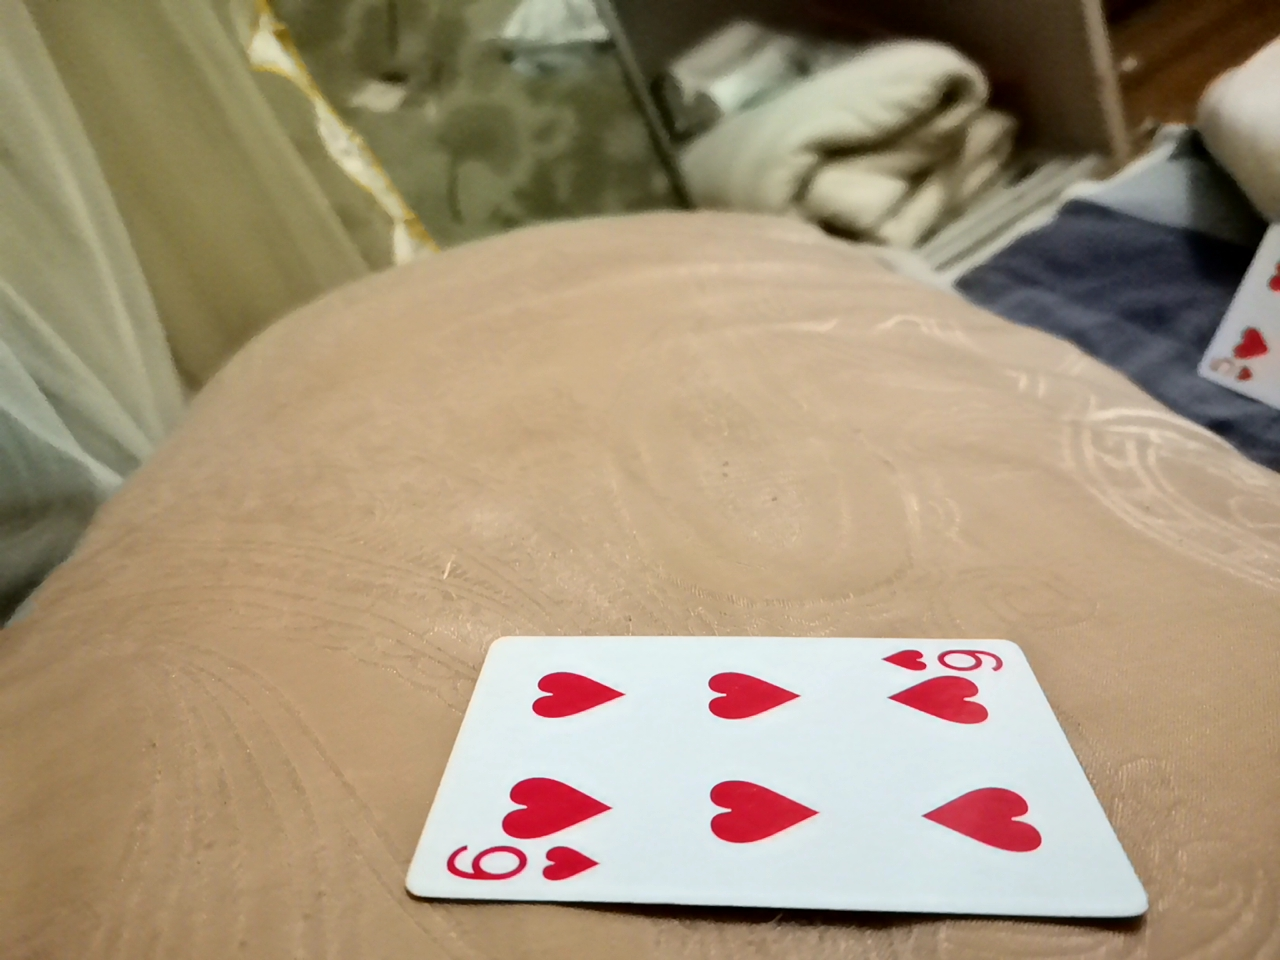hx 6: (395, 635, 1148, 922)
